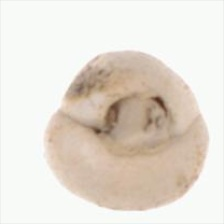L3: (94, 90, 182, 159)
L4: (45, 51, 210, 211)
